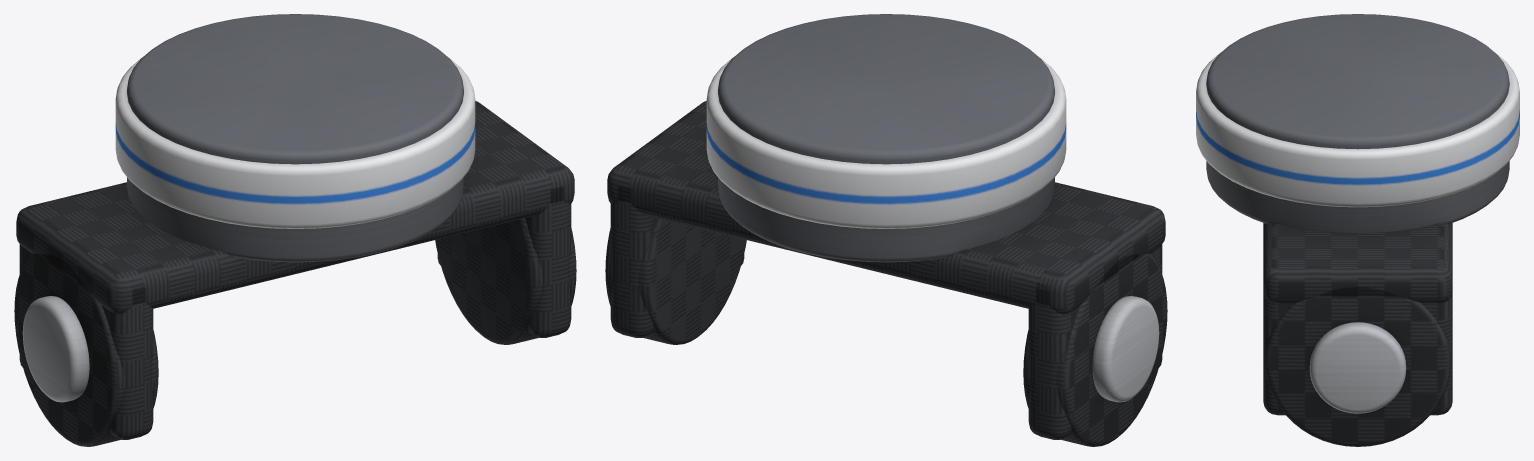
File: right_hip_yaw.glb
The picture shows the model from 3 angles, left to right: view 1: azimuth 30°, elevation 25°; view 2: azimuth 150°, elevation 25°; view 3: azimuth 270°, elevation 25°; orthographic projection. The views are drawn at different scales.
Visible parts, largest first — view 1: right_hip_yaw; view 2: right_hip_yaw; view 3: right_hip_yaw.
Part boxes in pixels (bbox=[...]): right_hip_yaw: bbox=[14, 14, 576, 446]; right_hip_yaw: bbox=[605, 14, 1167, 446]; right_hip_yaw: bbox=[1196, 14, 1519, 446].
Size of the model in its own units: 0.15 by 0.087 by 0.094.
1 material, 1 textured.
